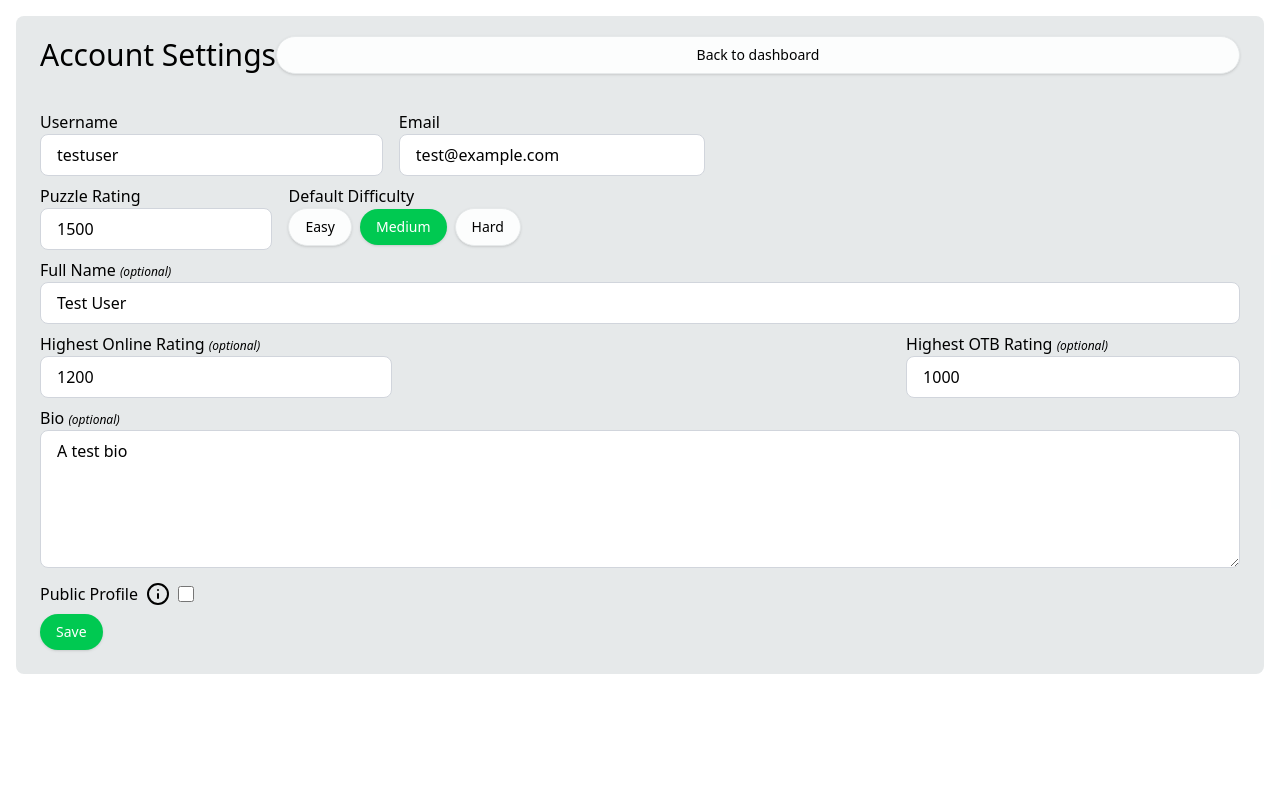
Test case: Account Editing › successfully updates the profile when valid data is entered
Replace the text in the field labelled "Username" with "newusername": (211, 155) [40,134,383,176]
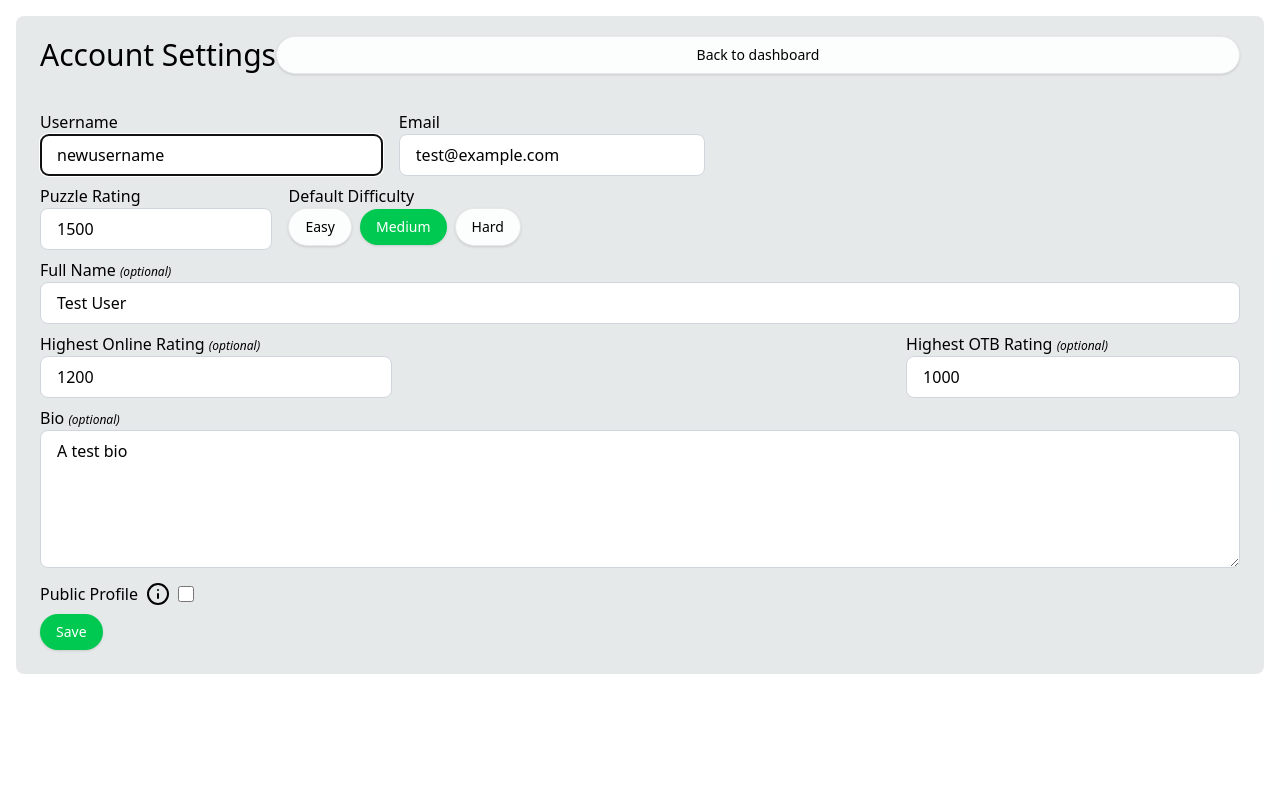
Click the button "Save": (71, 632) [40,614,103,650]
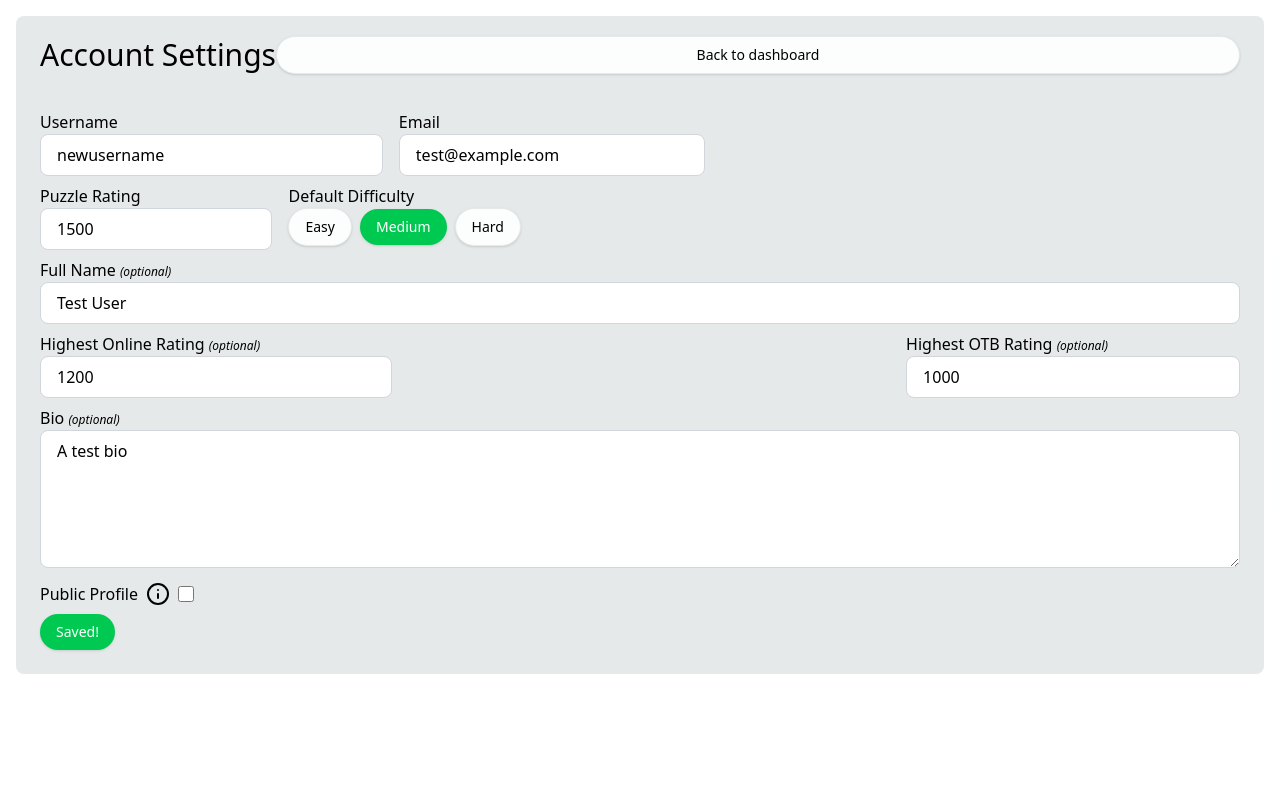
Check: the button "Saved!" is shown, box [40,614,115,650]
